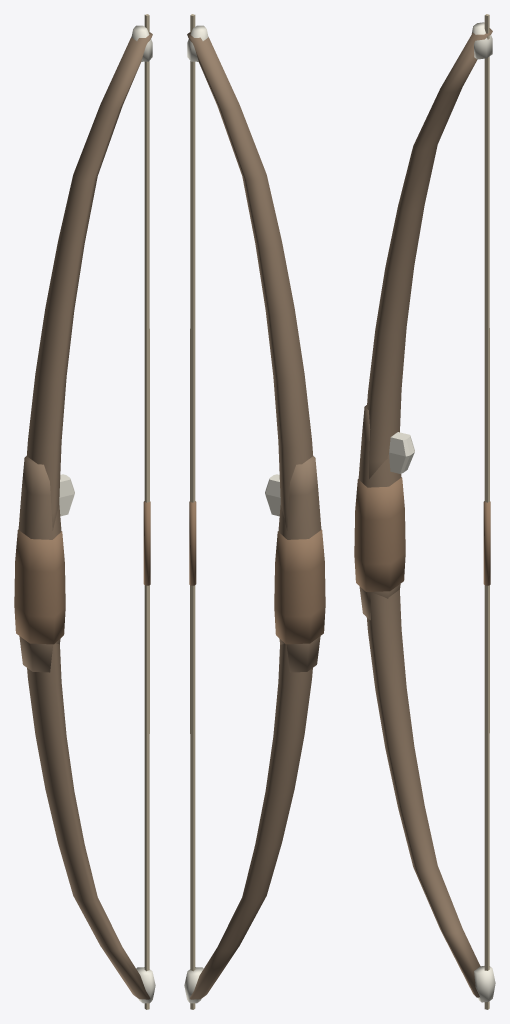
File: wpn_bow.glb
3 views of the same model, side by side, from view 1: azimuth 30°, elevation 25°; view 2: azimuth 150°, elevation 25°; view 3: azimuth 330°, elevation 25° (orthographic).
Parts seen in each view (by area): view 1: wpn_bow; view 2: wpn_bow; view 3: wpn_bow.
Part boxes in pixels (x1,y1,x2,y2): wpn_bow: (14, 14, 155, 1009); wpn_bow: (184, 14, 325, 1009); wpn_bow: (354, 14, 495, 1009).
Bounding box in the file's own units: 0.185 × 1.34 × 0.072.
